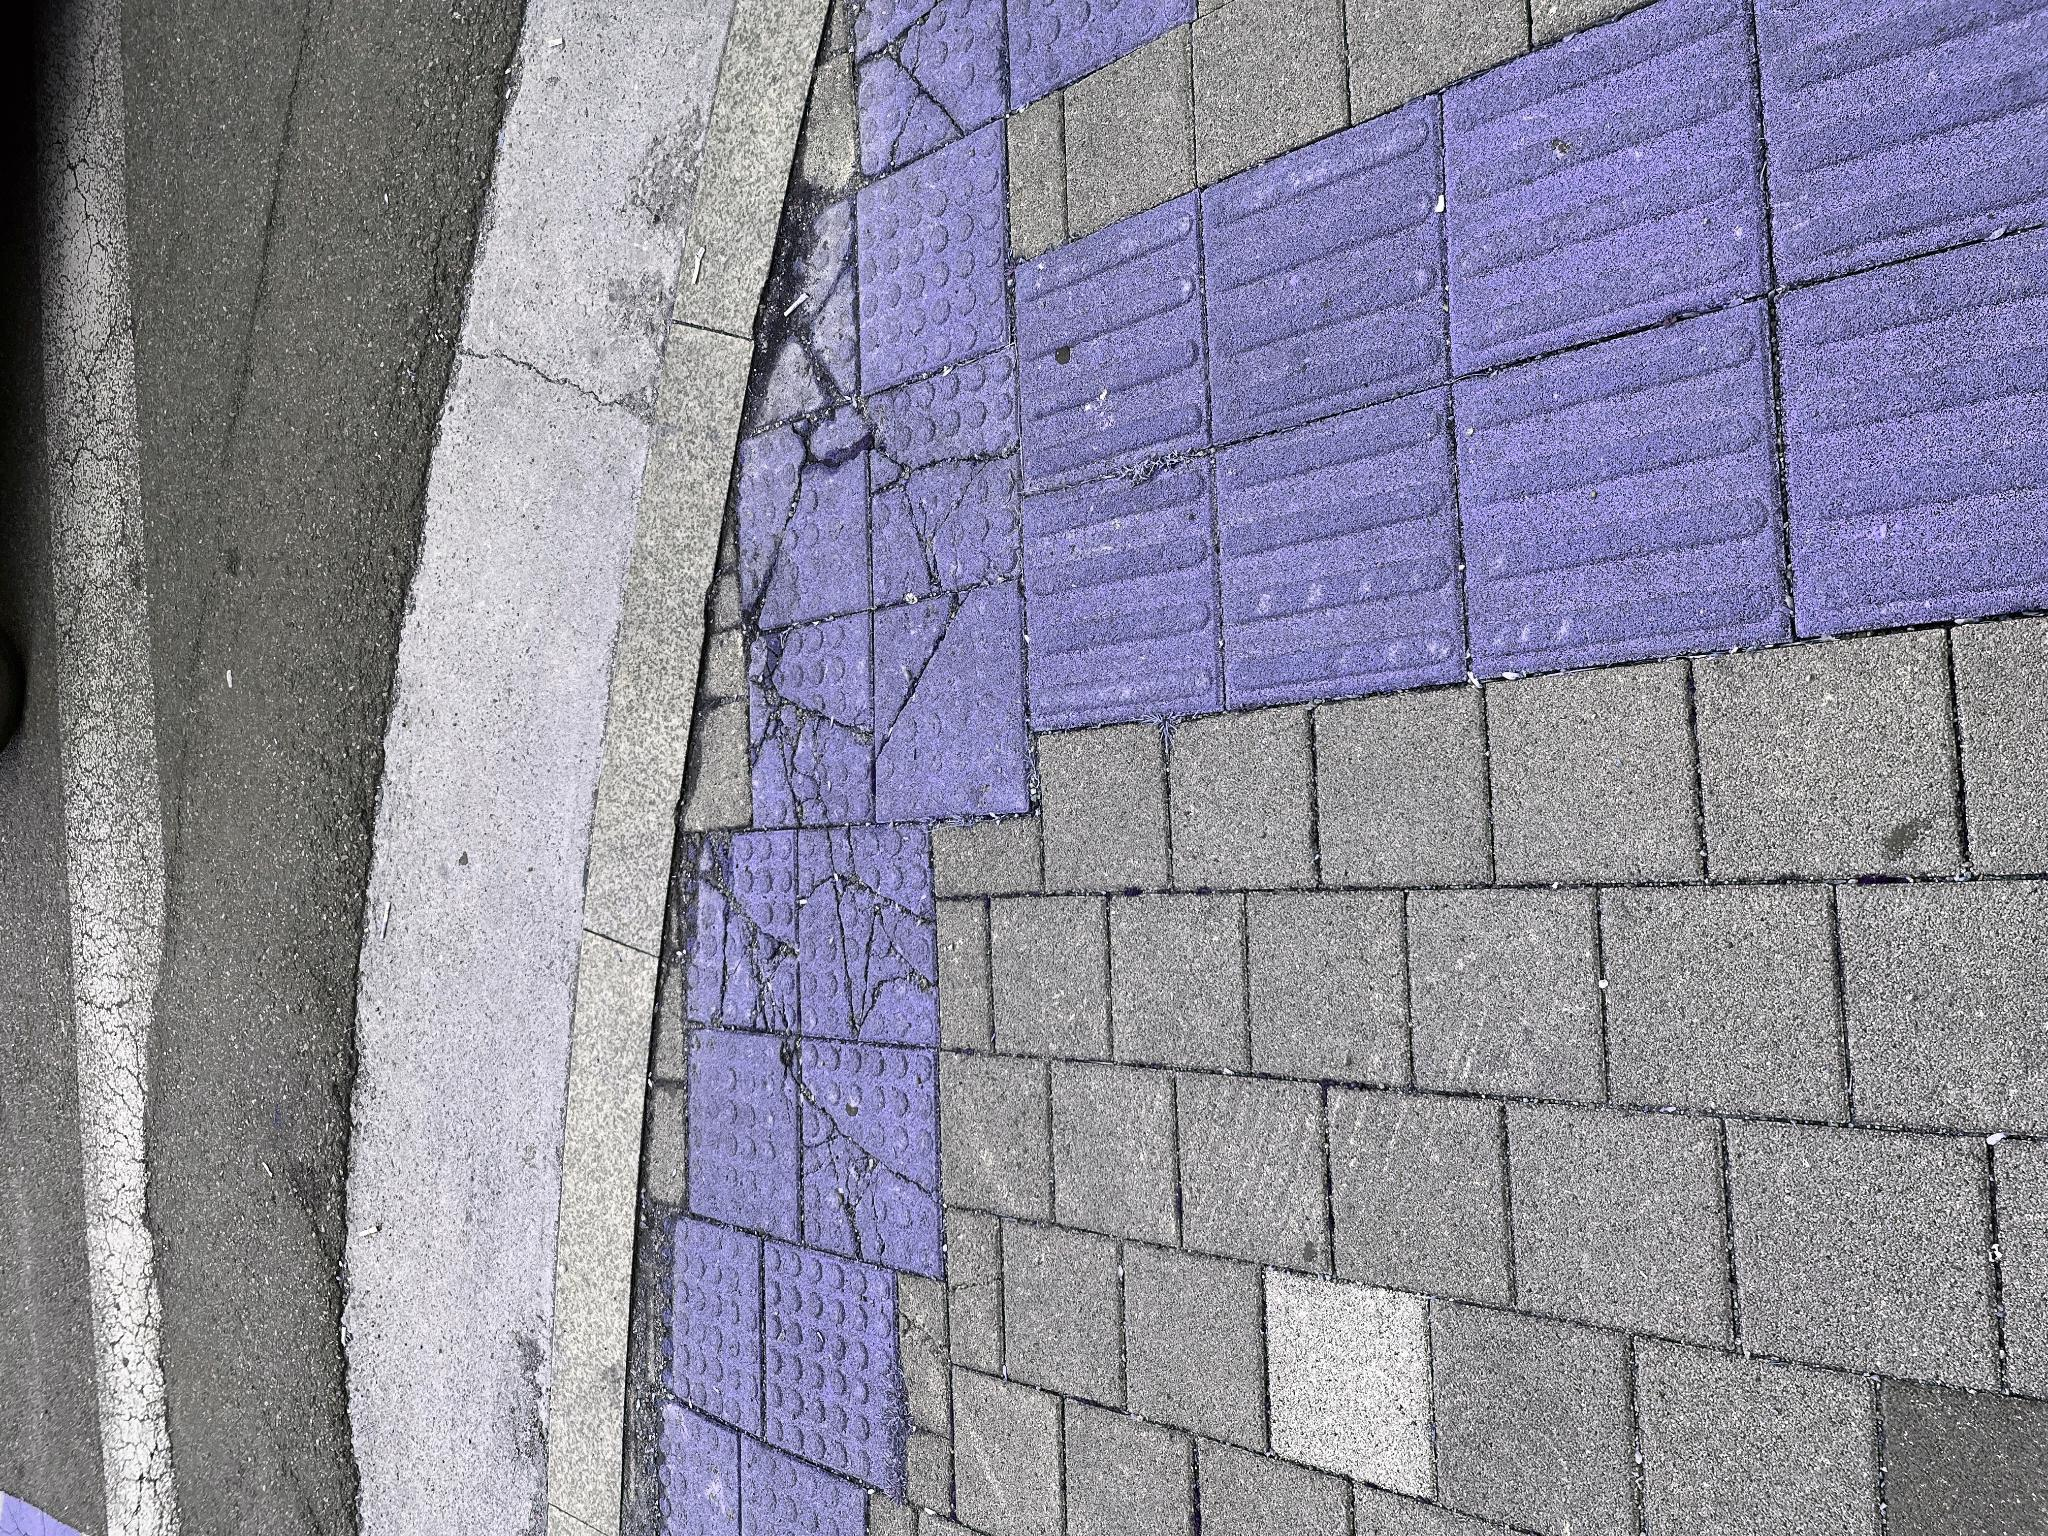Stop block broken: (932, 870, 1187, 1020), (714, 874, 953, 1025), (258, 803, 495, 941), (905, 734, 1134, 870), (492, 799, 711, 936), (708, 749, 922, 871), (505, 681, 703, 799)
Stop block normal: (1142, 858, 1414, 1005), (42, 766, 295, 897)
Straight block normal: (827, 1215, 1148, 1462), (1045, 1015, 1342, 1205)
